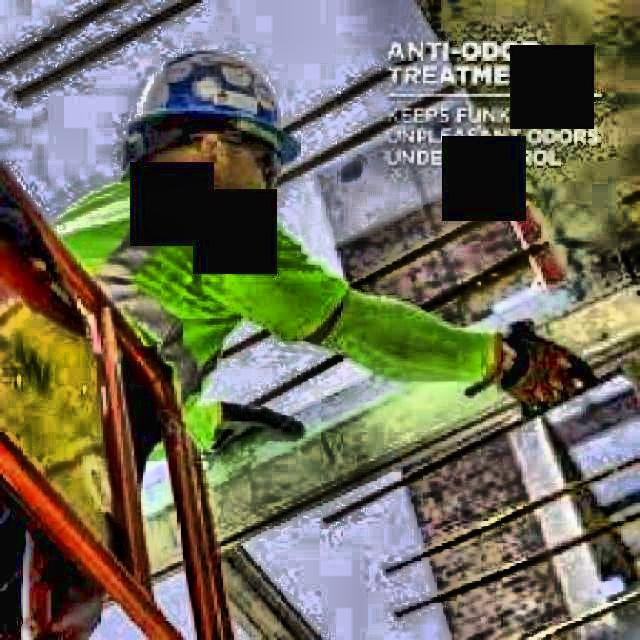safety_helmet: (116, 48, 302, 160)
safety_jacket: (43, 175, 346, 460)
